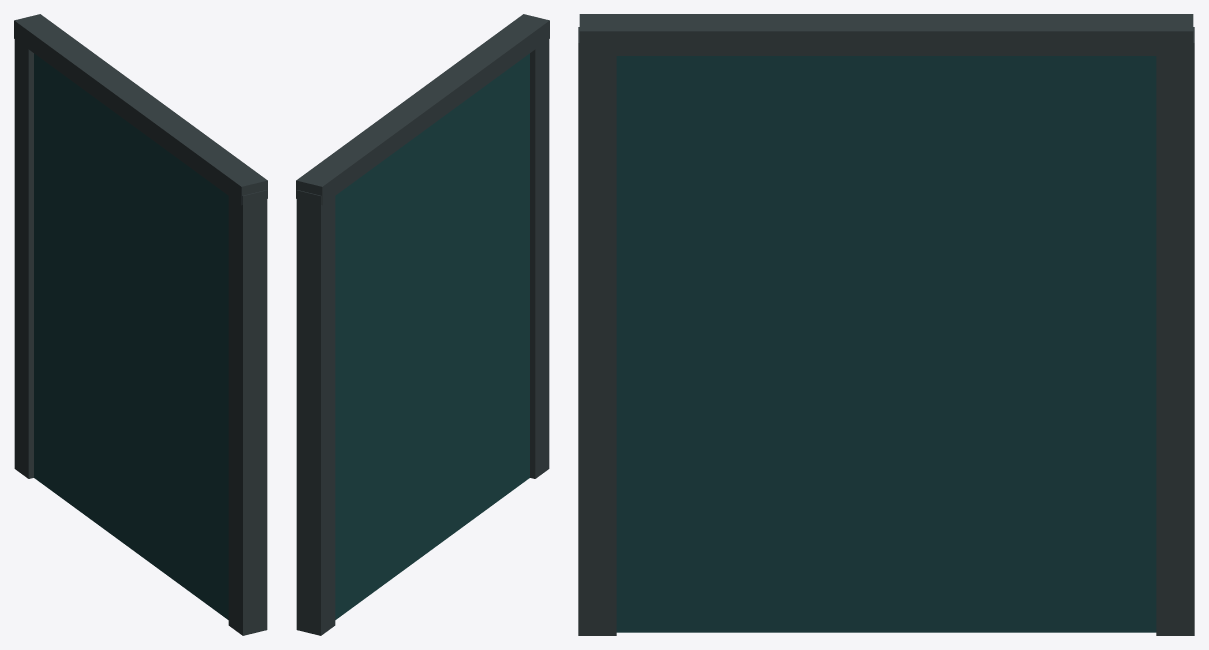
File: partition.obj
3 views of the same model, side by side, from view 1: azimuth 30°, elevation 25°; view 2: azimuth 150°, elevation 25°; view 3: azimuth 270°, elevation 25° (orthographic). The views are drawn at different scales.
Parts seen in each view (by area): view 1: solid_panel, terminal_post, cap; view 2: solid_panel, terminal_post, cap; view 3: solid_panel, terminal_post, cap.
Part boxes in pixels (box(x1,y1,x2,y2)): solid_panel: box(34, 53, 228, 619); terminal_post: box(14, 39, 267, 635); cap: box(14, 14, 267, 204); solid_panel: box(335, 53, 529, 619); terminal_post: box(296, 39, 549, 635); cap: box(296, 14, 549, 204); solid_panel: box(616, 56, 1156, 632); terminal_post: box(578, 27, 1194, 635); cap: box(579, 14, 1193, 55).
Size of the model in its own units: 0.15 by 2.45 by 2.26.
